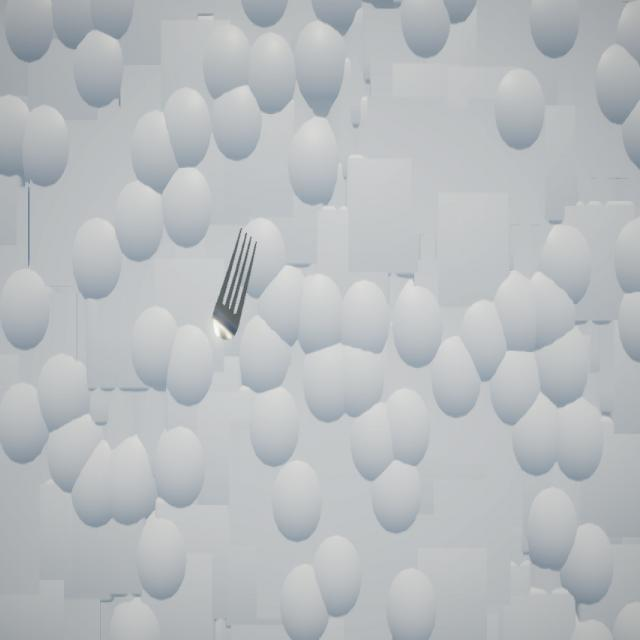top_folk: (213, 229, 258, 341)
